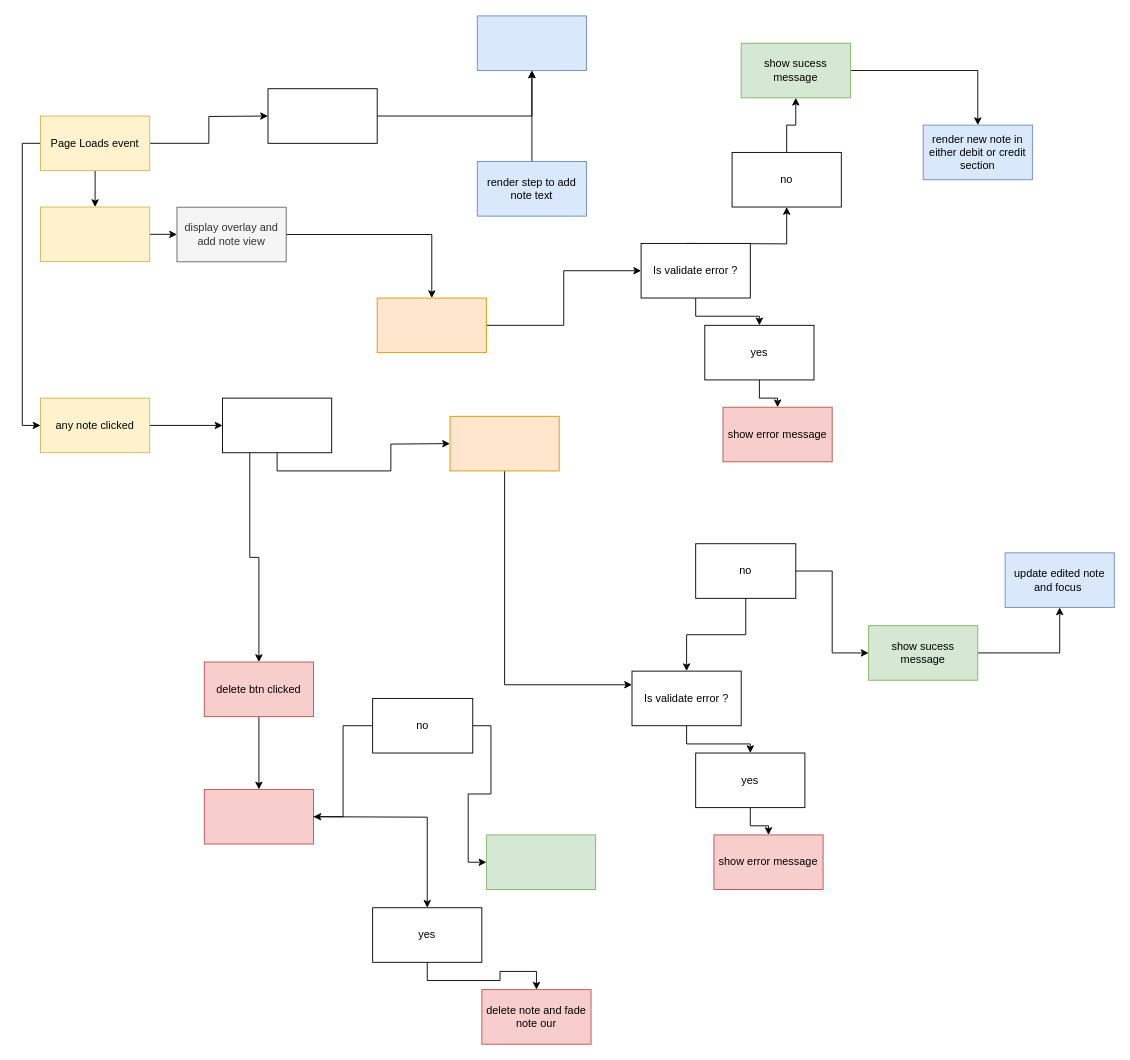
The diagram is 1130 pixels wide and 1060 high, and some of its shapes have lost their labels. Here are the shapes that lost their labels. From the top down, the centre of each, then its label:
the point at 531,43: render debit and credit notes
the point at 322,115: If there is existing notes?
the point at 95,234: Add note btn clicked
the point at 431,325: save btn clicked
the point at 277,425: show ovelay and credit or debit note view
the point at 504,443: If edit btn clicked
the point at 258,816: show confirmation mini modal
the point at 540,862: hide confirmation modal
